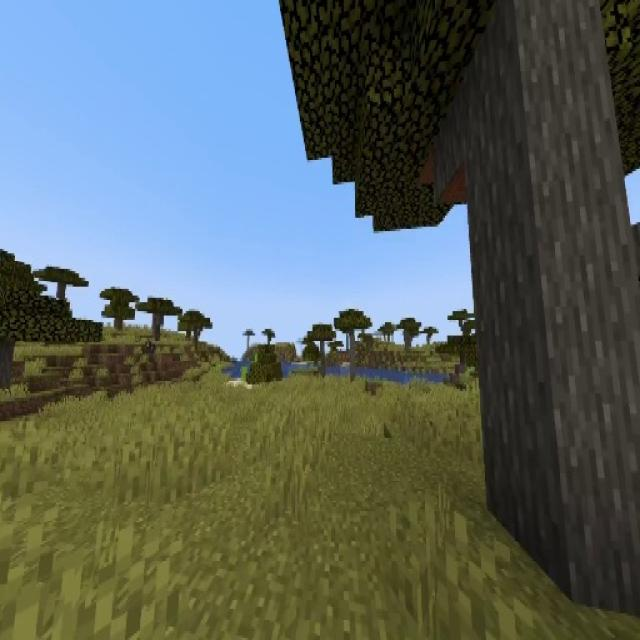acacia: (279, 0, 640, 615), (33, 262, 89, 328), (334, 310, 372, 380), (139, 295, 180, 340), (100, 287, 138, 334)
acacia_log: (469, 0, 640, 605)
